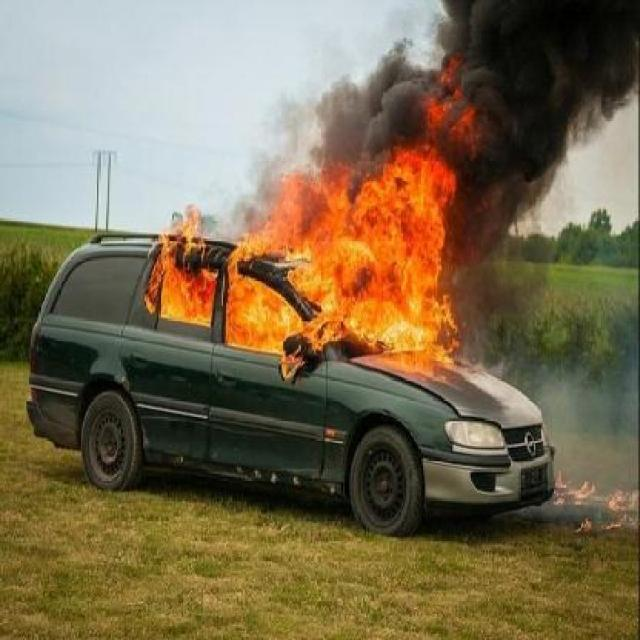Fire: (114, 150, 501, 419)
Smoke: (376, 17, 640, 168), (507, 335, 640, 477)
